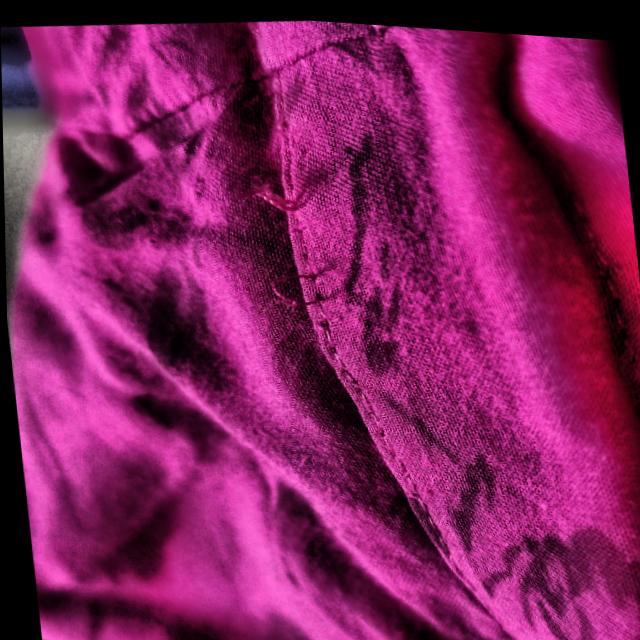Stitch: (216, 141, 322, 229), (252, 257, 332, 329)
